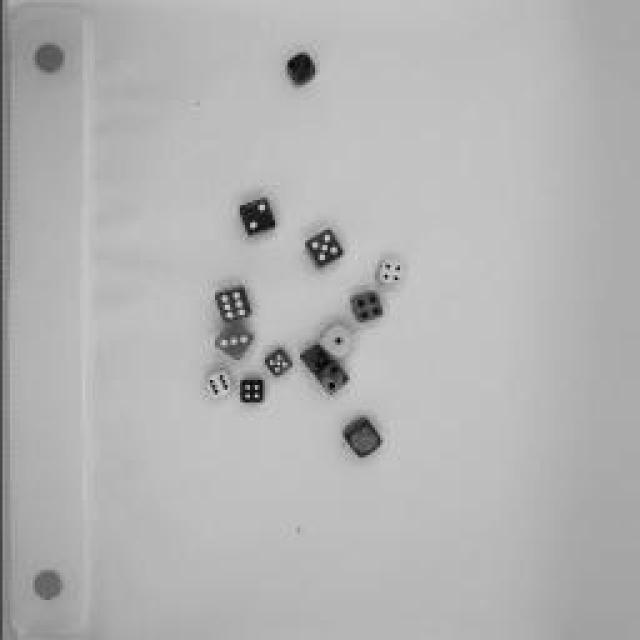dice_1: (312, 320, 358, 362)
dice_2: (230, 180, 285, 250), (311, 360, 349, 400)
dice_3: (205, 311, 253, 364), (279, 44, 319, 88), (296, 342, 329, 376)
dice_4: (372, 258, 406, 290), (236, 374, 269, 406), (352, 293, 382, 325)
dice_5: (334, 414, 386, 466), (298, 224, 348, 276), (262, 338, 296, 384)
dice_6: (202, 284, 252, 318), (200, 365, 232, 405)
